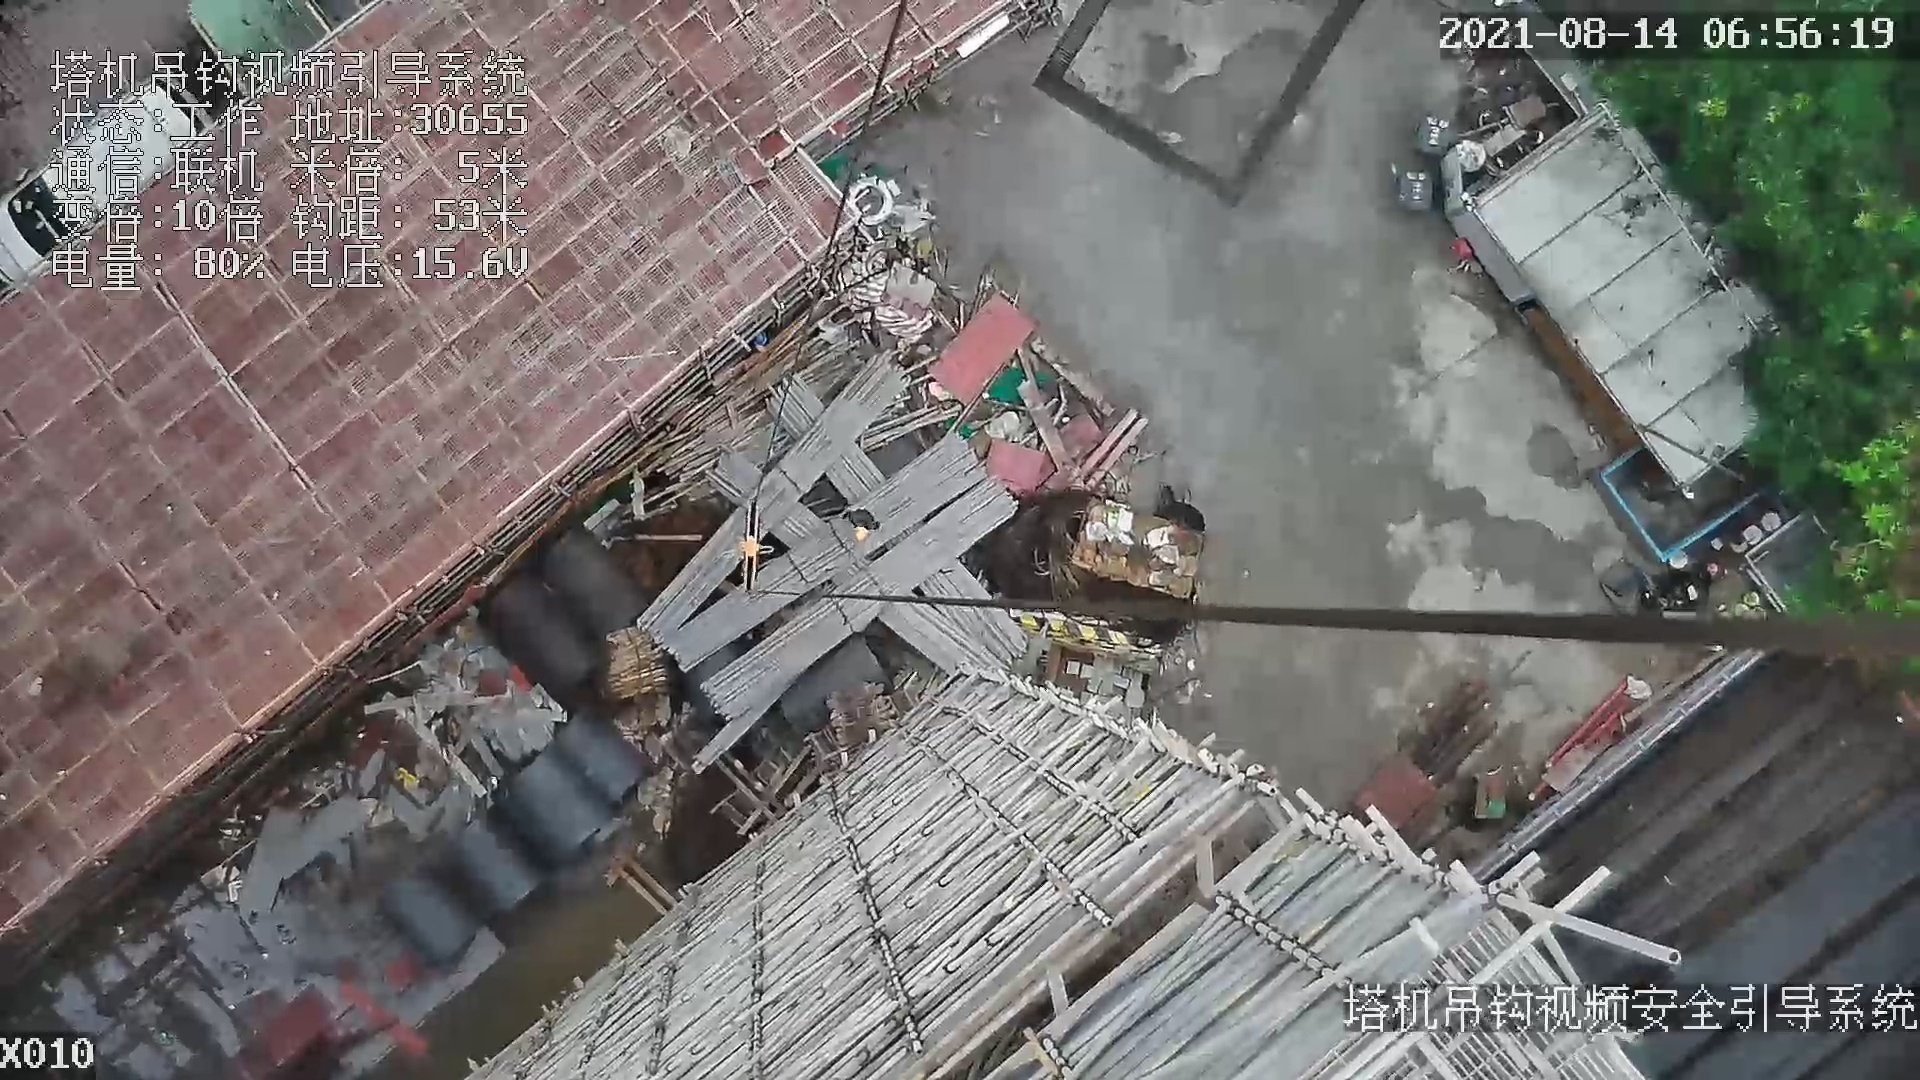helmet: (854, 527, 868, 541)
hook: (738, 508, 774, 599)
person: (841, 512, 882, 541)
rebar: (661, 430, 989, 670), (639, 355, 910, 644), (700, 479, 1019, 719), (876, 592, 1004, 679), (927, 566, 1026, 665)
wood: (609, 647, 669, 701)
